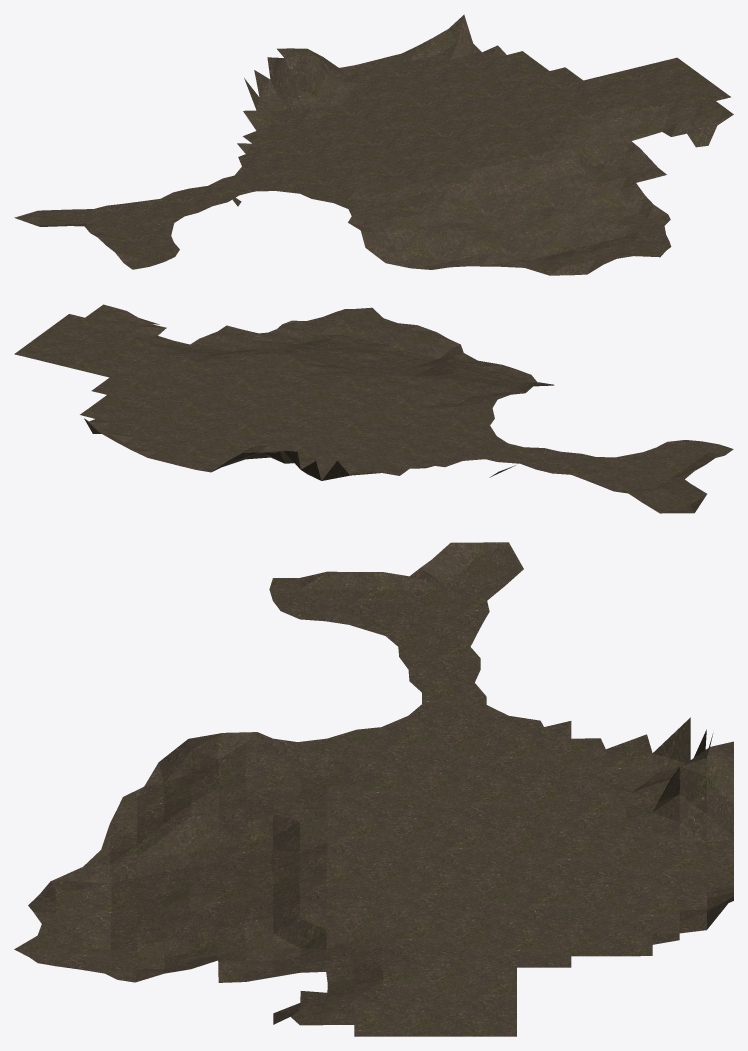
Rendered from terrain_base10.fbx.
3 renders of one model, top to bottom at view 1: azimuth 30°, elevation 25°; view 2: azimuth 150°, elevation 25°; view 3: azimuth 270°, elevation 25°, orthographic. The views are drawn at different scales.
Parts seen in each view (by area): view 1: obj0.167; view 2: obj0.167; view 3: obj0.167.
Part boxes in pixels (<box>): obj0.167: <box>14,14,733,275</box>; obj0.167: <box>14,304,733,513</box>; obj0.167: <box>14,542,733,1036</box>.
Bounding box in the file's own units: 106 × 11.03 × 66.37.
